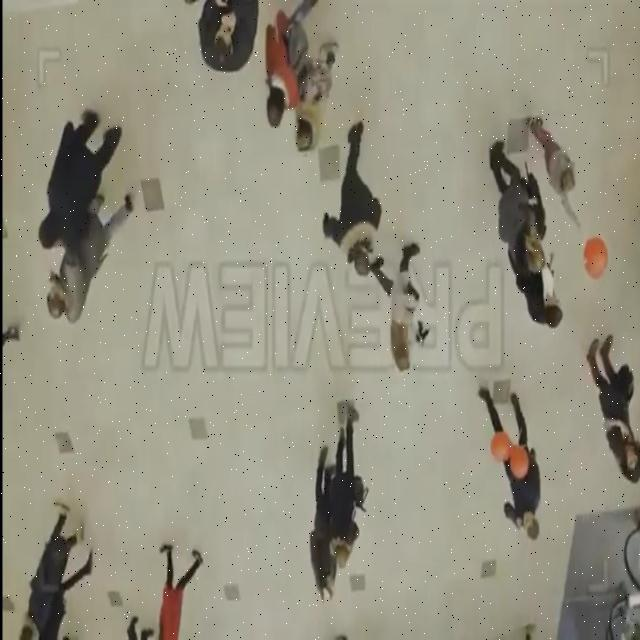humans: (36, 110, 125, 248), (46, 196, 136, 327), (474, 383, 542, 542), (323, 119, 381, 280), (19, 501, 86, 638), (484, 138, 549, 275), (586, 330, 640, 488), (266, 0, 323, 131), (371, 242, 423, 376), (526, 115, 583, 234), (328, 397, 363, 574), (292, 40, 340, 156), (197, 0, 262, 79), (307, 444, 337, 602), (156, 542, 204, 640), (510, 259, 564, 331)
